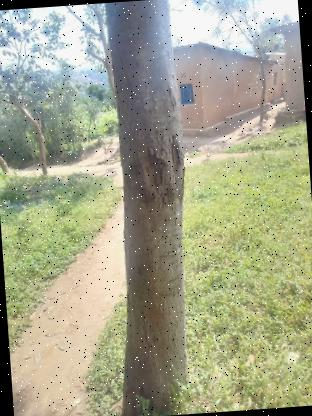tree: (84, 0, 212, 416)
